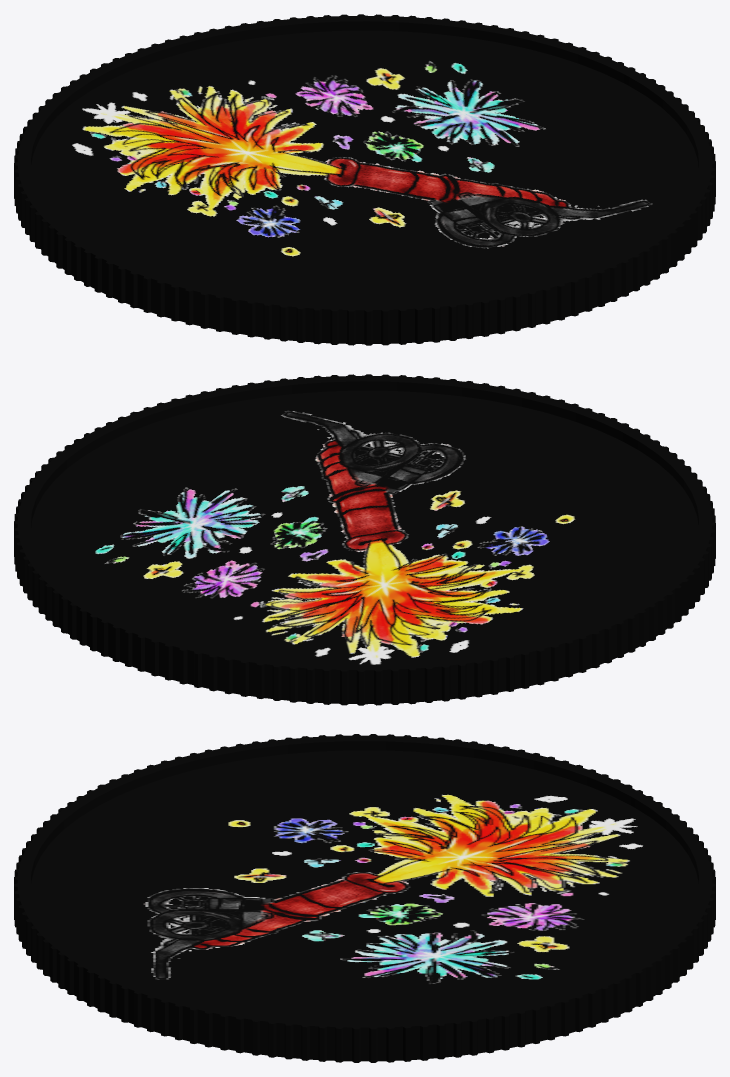
Rendered from fireworksCanon.obj.
3 views of the same model, one above another, from view 1: azimuth 30°, elevation 25°; view 2: azimuth 150°, elevation 25°; view 3: azimuth 270°, elevation 25° (orthographic).
Parts seen in each view (by area): view 1: Cylinder; view 2: Cylinder; view 3: Cylinder.
Part boxes in pixels (bbox=[...]): Cylinder: bbox=[14, 14, 715, 345]; Cylinder: bbox=[14, 374, 715, 705]; Cylinder: bbox=[14, 734, 715, 1062].
Size of the model in its own units: 8.1 by 0.4326 by 8.15.
